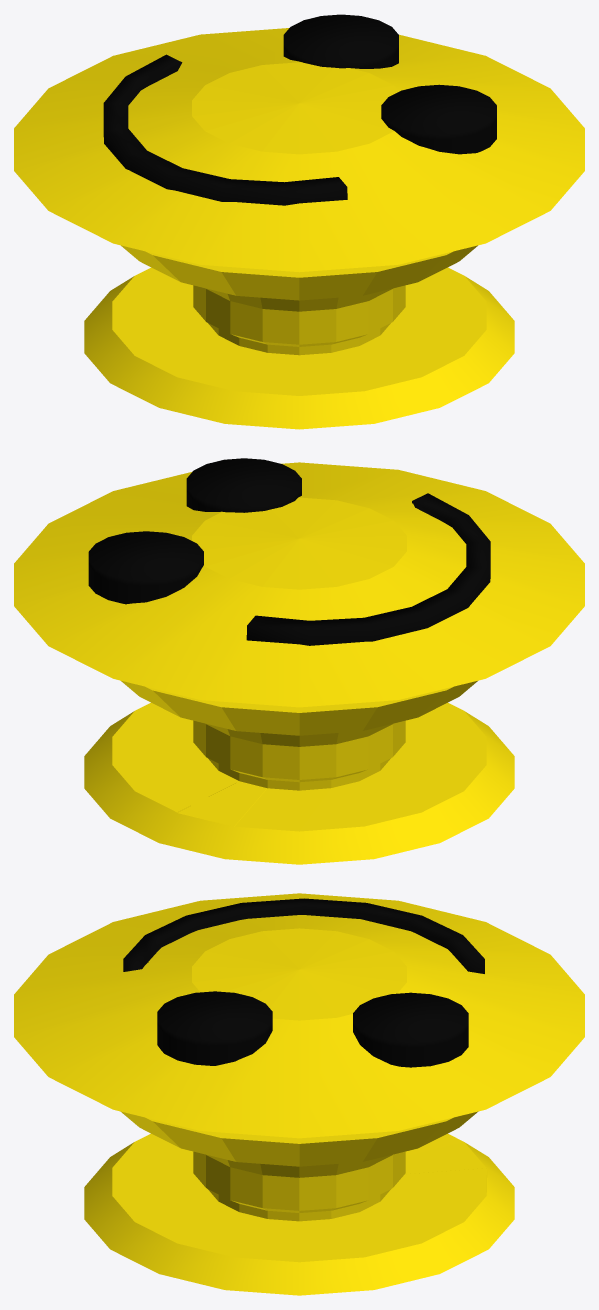
The model's file is Smiley Bumper.FBX.
3 renders of one model, top to bottom at view 1: azimuth 30°, elevation 25°; view 2: azimuth 150°, elevation 25°; view 3: azimuth 270°, elevation 25°, orthographic.
Visible parts, largest first — view 1: Cylinder004; view 2: Cylinder004; view 3: Cylinder004.
Part boxes in pixels (box(x1,y1,x2,y2)): Cylinder004: box(14, 14, 584, 429); Cylinder004: box(14, 458, 584, 864); Cylinder004: box(14, 893, 584, 1295).
Bounding box in the file's own units: 15.25 × 6.81 × 15.01.
